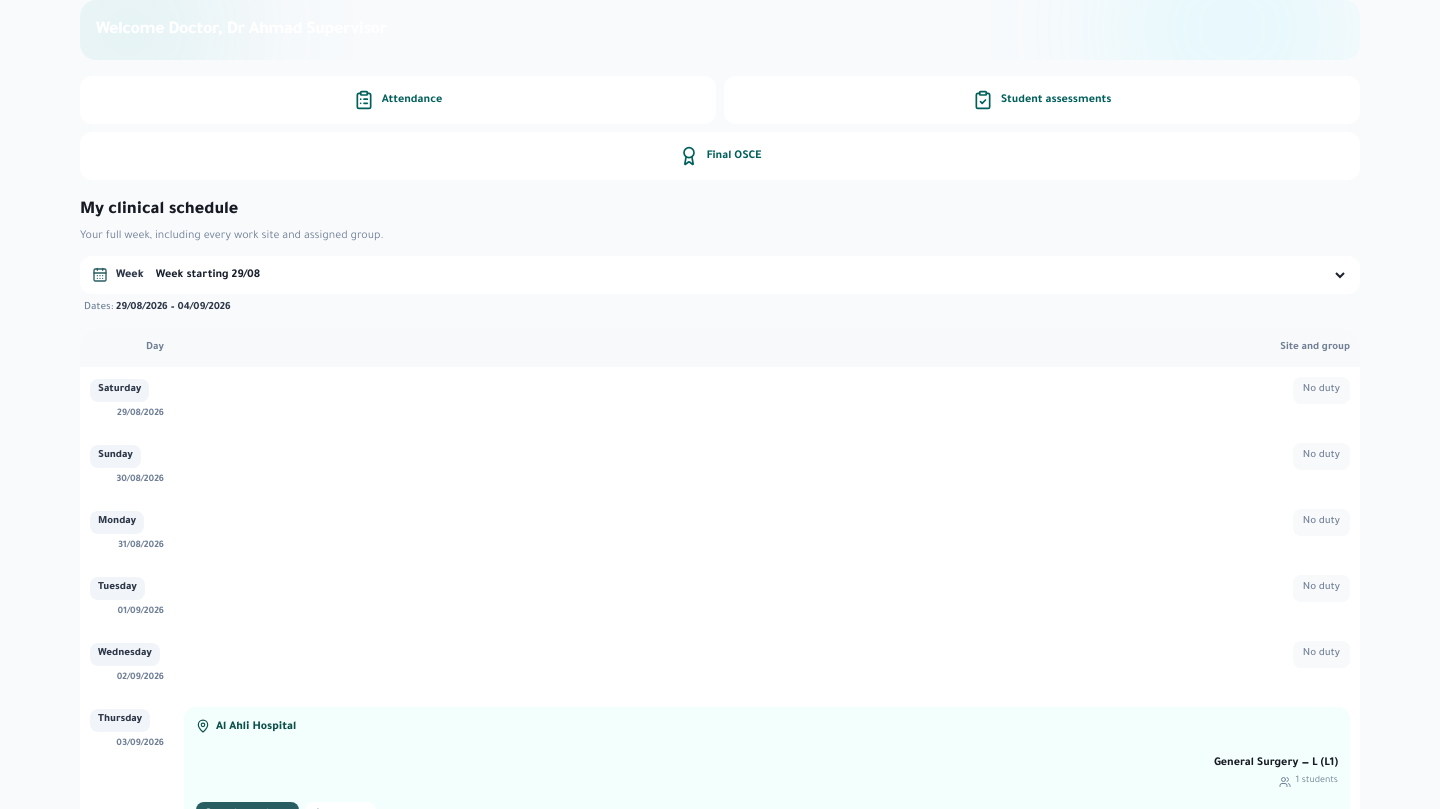
Test: clinical supervisor workspace › shows every day, a no-duty label, and the second site in the portal week
Select "Week starting 22/08" in the dropdown named "Choose week" at (750, 275), box [152, 264, 1348, 286]
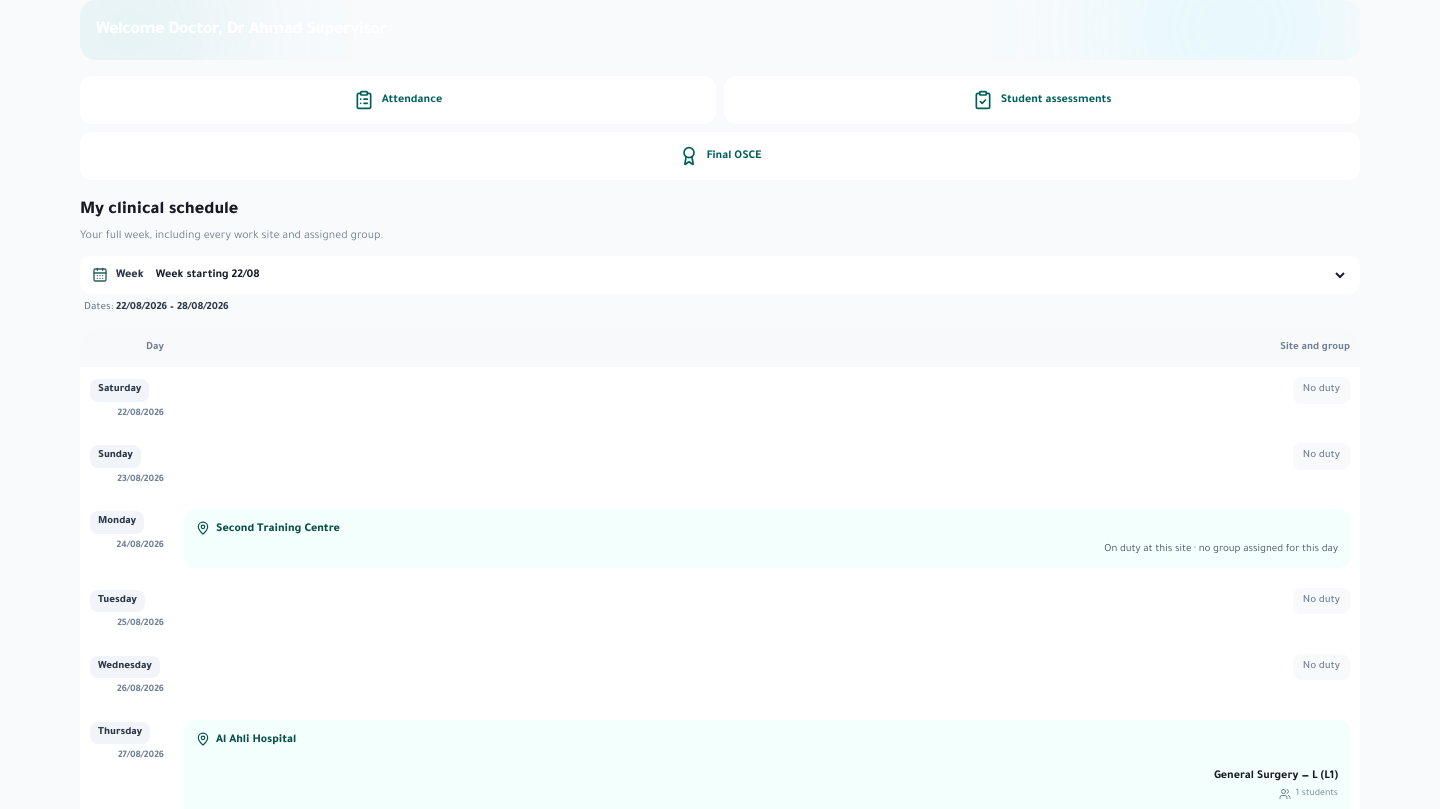
Expected: the text "Second Training Centre" is shown, [196, 521, 340, 535]
Expected: the text "No duty" is shown 5 times
